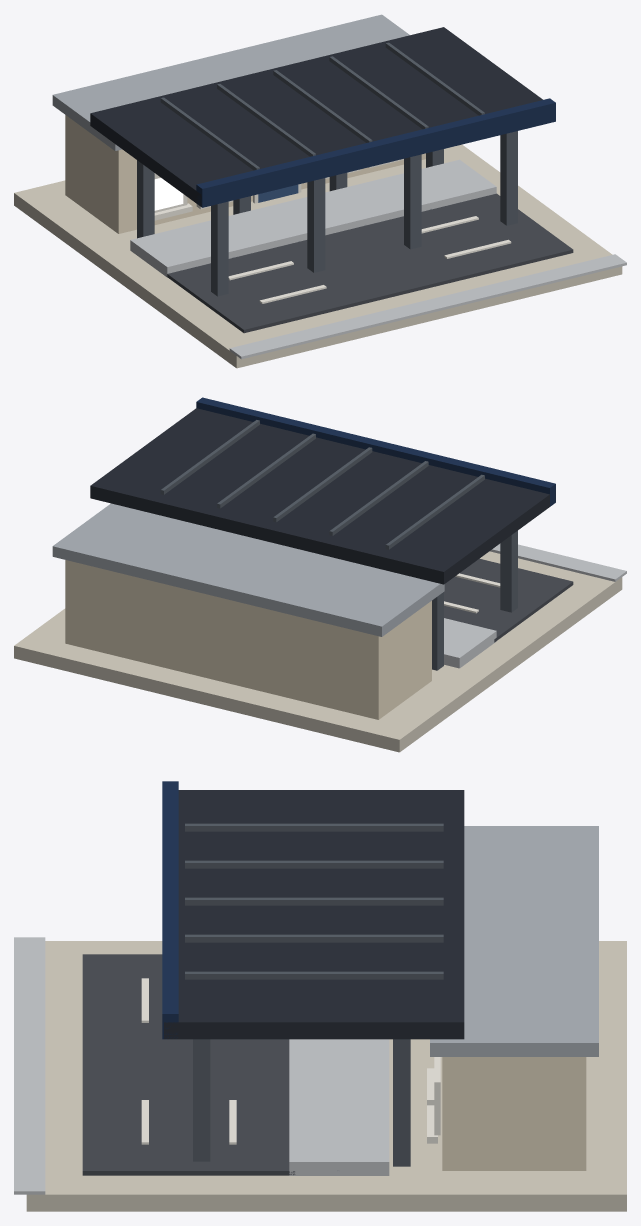
The picture shows the model from 3 angles, top to bottom: view 1: azimuth 30°, elevation 25°; view 2: azimuth 150°, elevation 25°; view 3: azimuth 270°, elevation 25°; orthographic projection. The views are drawn at different scales.
Visible parts, largest first — view 1: b31_v2_lod1; view 2: b31_v2_lod1; view 3: b31_v2_lod1.
Part boxes in pixels (x1,y1,x2,y2): b31_v2_lod1: [14, 14, 626, 368]; b31_v2_lod1: [14, 397, 626, 752]; b31_v2_lod1: [14, 781, 626, 1211].
Bounding box in the file's own units: 0.96 × 0.33 × 0.98.
